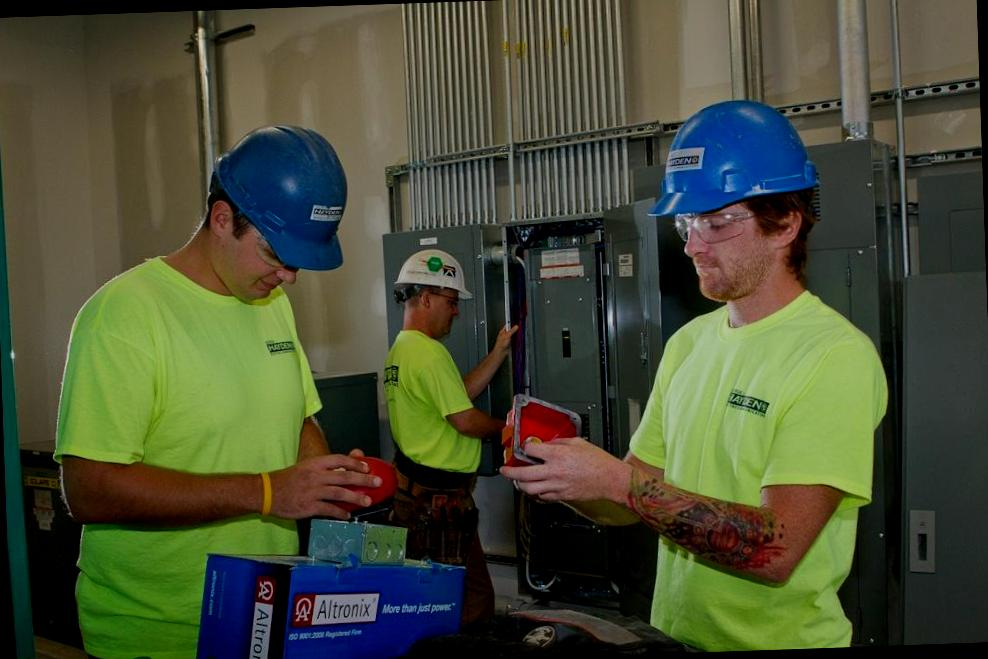helmet: (638, 91, 824, 254), (197, 115, 356, 287), (386, 244, 482, 318)
no_vest: (644, 300, 884, 653), (107, 257, 312, 659), (374, 308, 500, 501)
person: (62, 109, 373, 659), (616, 93, 854, 654), (376, 243, 497, 648)
